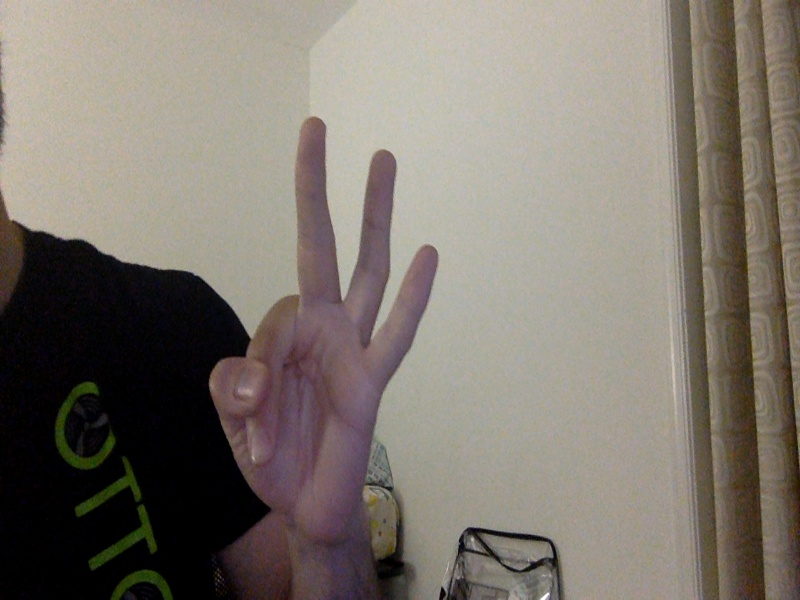3-hand: (221, 115, 439, 541)
